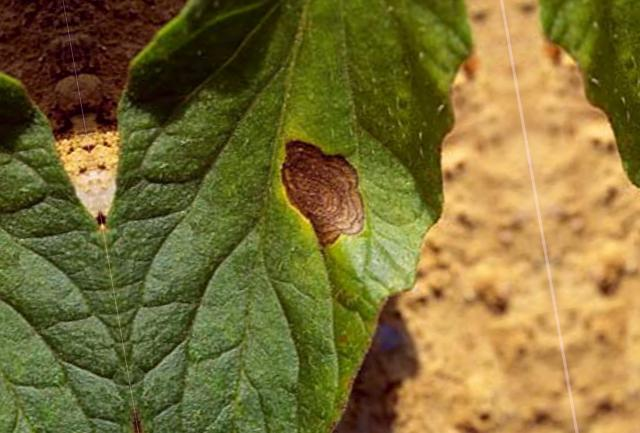Tomato Early blight leaf: (63, 0, 560, 433)
